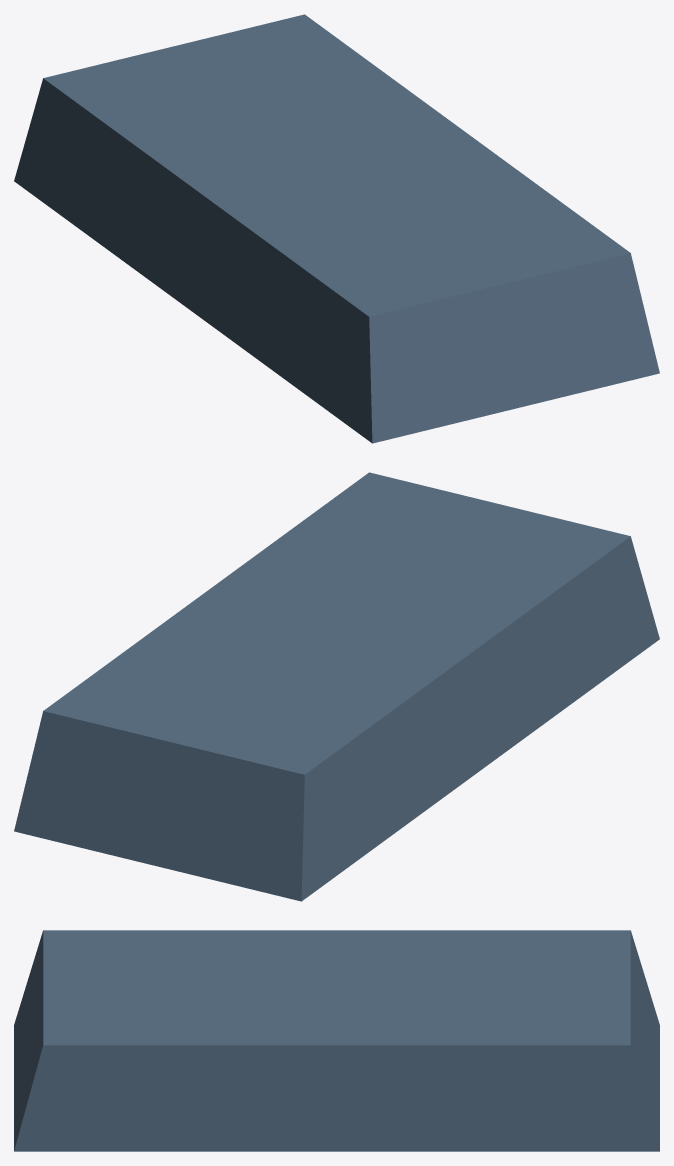
File: cobalt_ingot.fbx
3 views of the same model, one above another, from view 1: azimuth 30°, elevation 25°; view 2: azimuth 150°, elevation 25°; view 3: azimuth 270°, elevation 25° (orthographic). The views are drawn at different scales.
Parts seen in each view (by area): view 1: cobalt_ingot; view 2: cobalt_ingot; view 3: cobalt_ingot.
Part boxes in pixels (box(x1,y1,x2,y2)): cobalt_ingot: box(14, 14, 659, 443); cobalt_ingot: box(14, 472, 659, 901); cobalt_ingot: box(14, 930, 659, 1151).
Bounding box in the file's own units: 28.01 × 10.4 × 60.47.
